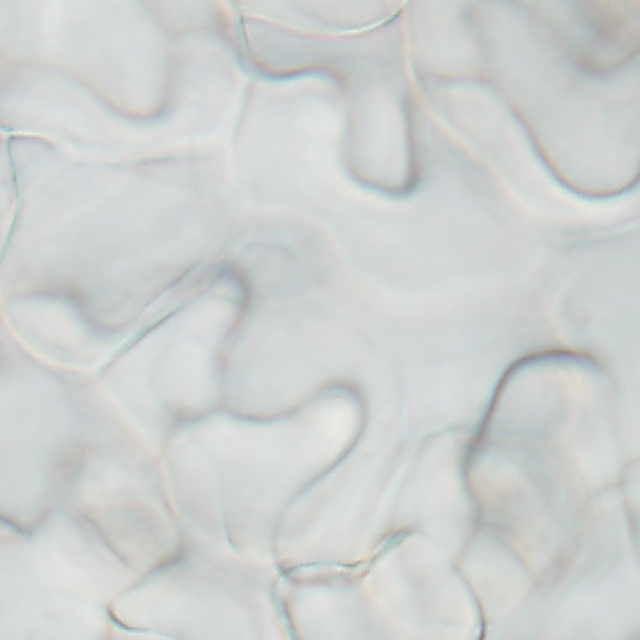center: (279, 15, 358, 20)
stomata-huw1: (230, 0, 407, 35)
